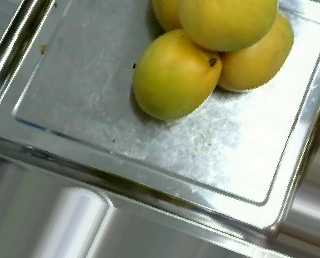Mango: (133, 28, 221, 117), (209, 16, 294, 92), (177, 1, 277, 48)
